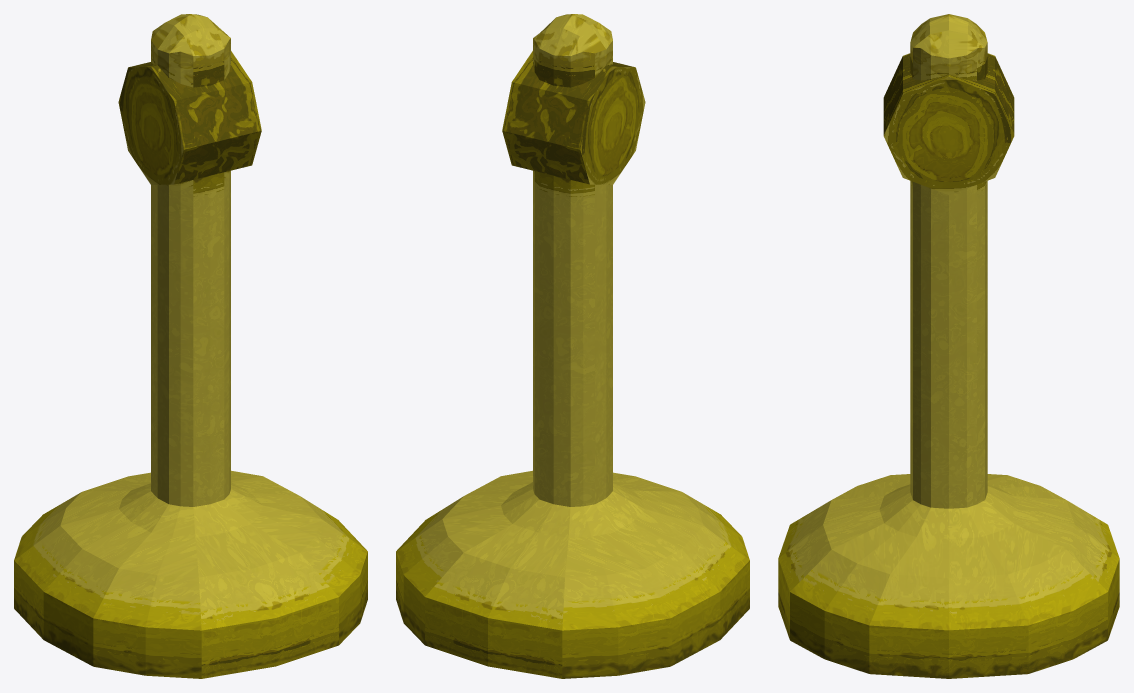
Rendered from weight_frame.fbx.
3 views of the same model, side by side, from view 1: azimuth 30°, elevation 25°; view 2: azimuth 150°, elevation 25°; view 3: azimuth 270°, elevation 25° (orthographic).
Visible parts, largest first — view 1: Cube.008; view 2: Cube.008; view 3: Cube.008.
Part boxes in pixels (x1,y1,x2,y2): Cube.008: (14, 14, 367, 678); Cube.008: (396, 14, 749, 678); Cube.008: (778, 14, 1119, 678).
Bounding box in the file's own units: 664 × 1271 × 664.
